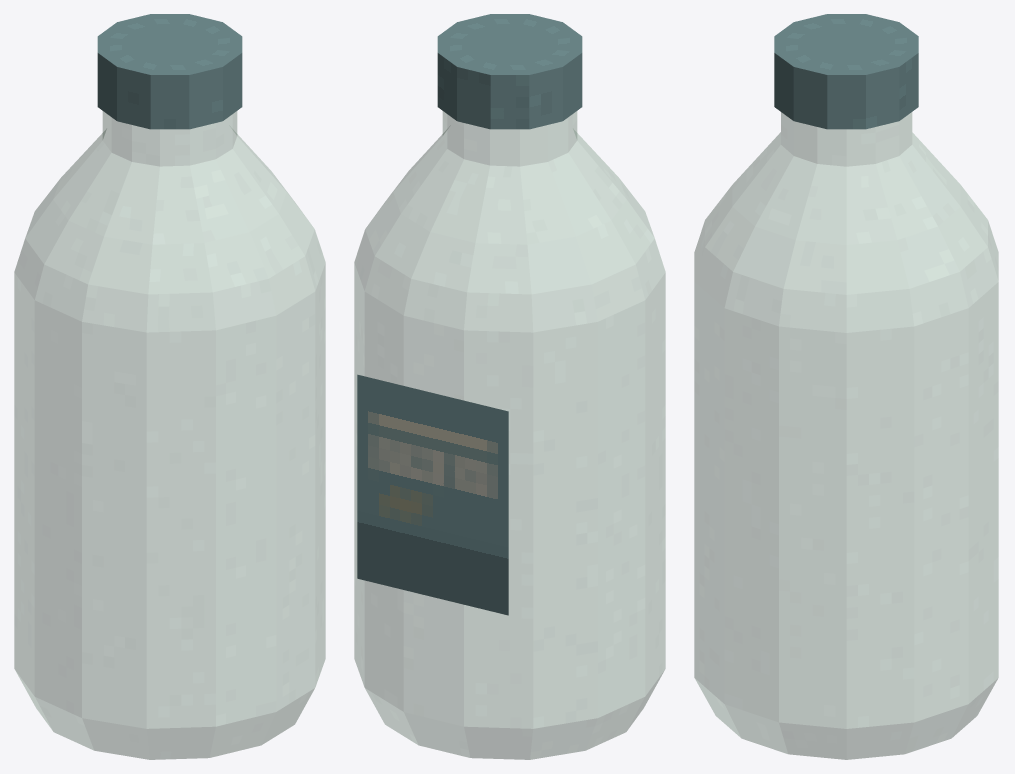
Rendered from sparkling.glb.
3 views of the same model, side by side, from view 1: azimuth 30°, elevation 25°; view 2: azimuth 150°, elevation 25°; view 3: azimuth 270°, elevation 25° (orthographic).
Visible parts, largest first — view 1: block_bottle silhouette, block_bottle closure; view 2: block_bottle silhouette, block_drink label, block_bottle closure; view 3: block_bottle silhouette, block_bottle closure.
Part boxes in pixels (<box>): block_bottle silhouette: <box>14,111,325,759</box>; block_bottle closure: <box>97,14,242,129</box>; block_bottle silhouette: <box>354,111,665,759</box>; block_drink label: <box>357,374,508,615</box>; block_bottle closure: <box>437,14,582,129</box>; block_bottle silhouette: <box>694,112,998,759</box>; block_bottle closure: <box>774,14,918,129</box>.
Size of the model in its own units: 0.0703 by 0.1638 by 0.069.
Materials: 2 (2 with a texture image).
